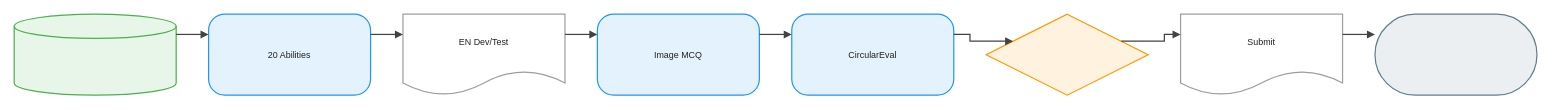
Some shapes in this 1552 by 110 pixel diagram are drawn without their labels. The shapes that lost their labels are listed below. From the top down, each one's centre as x and y in pixels, then its label:
pixel 94 54: Source Pool
pixel 1066 54: Extract
pixel 1455 54: EN Acc
